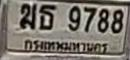7: (83, 6, 95, 31)
8: (110, 8, 123, 32), (97, 8, 108, 32)
9: (67, 5, 80, 30)
A06: (19, 3, 36, 29)
A24: (38, 4, 55, 29)
BKK: (22, 37, 109, 56)
